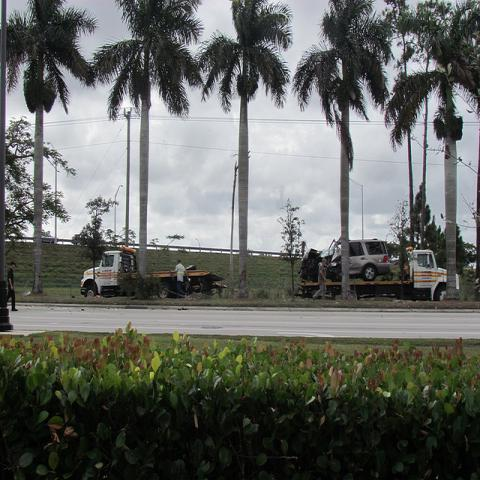car: (301, 236, 394, 286)
truck: (300, 246, 460, 301), (79, 246, 227, 300)
